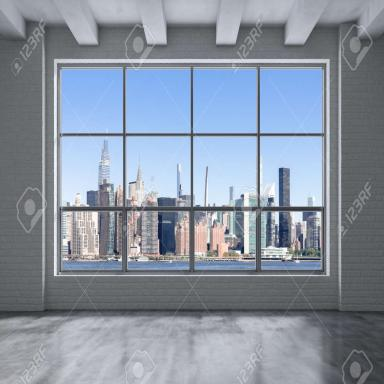glass_panel: (126, 138, 189, 206), (196, 138, 257, 207), (193, 68, 257, 132), (262, 138, 322, 206), (60, 138, 120, 206), (126, 69, 190, 132), (59, 68, 122, 132), (262, 68, 324, 132), (62, 210, 120, 262), (262, 210, 322, 260), (195, 210, 255, 259), (162, 212, 190, 259)
